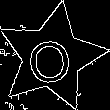O_N: (26, 29, 77, 85)
